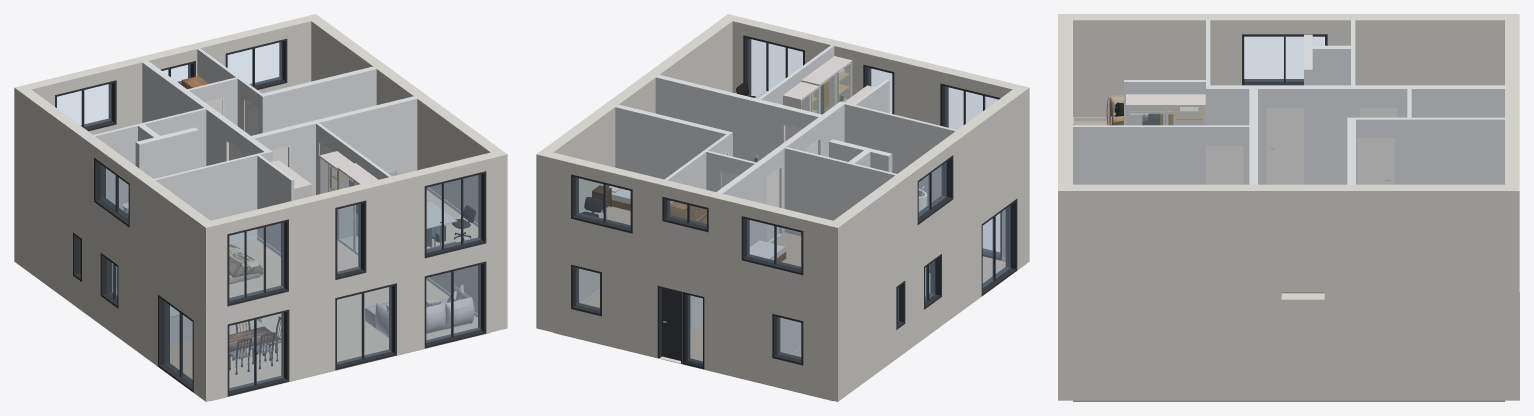
The model's file is haus.glb.
3 renders of one model, left to right at view 1: azimuth 30°, elevation 25°; view 2: azimuth 150°, elevation 25°; view 3: azimuth 270°, elevation 25°, orthographic. The views are drawn at different scales.
Parts seen in each view (by area): view 1: object 25, object 29, object 1, object 3, object 7, object 28, object 27, object 15, object 23, object 48, object 49; view 2: object 25, object 1, object 29, object 3, object 28, object 27, object 7, DOOR_eah1jsn3zr16_leaf, object 8, DOOR_mu0mygiptx2z_leaf, object 56, object 50; view 3: object 25, object 1, object 29, object 3, object 28, DOOR_bk53avd0xnd8_leaf, object 27, DOOR_j4w04qg5vu2w_leaf, DOOR_wu8b1132cbgz_leaf, object 7, object 48.
Boxes of the visible parts, x1,y1,x2,y2 form: object 25: (14, 14, 507, 311); object 29: (93, 48, 417, 252); object 1: (14, 171, 507, 401); object 3: (73, 151, 490, 400); object 7: (79, 158, 480, 390); object 28: (57, 42, 480, 300); object 27: (55, 38, 486, 306); object 15: (365, 284, 474, 337); object 23: (229, 316, 281, 374); object 48: (229, 244, 263, 284); object 49: (426, 201, 456, 249); object 25: (536, 14, 1029, 311); object 1: (536, 171, 1029, 401); object 29: (615, 45, 957, 246); object 3: (553, 56, 1017, 401); object 28: (576, 39, 997, 269); object 27: (571, 35, 1000, 275); object 7: (576, 64, 1010, 363); DOOR_eah1jsn3zr16_leaf: (662, 288, 680, 360); object 8: (690, 295, 801, 354); DOOR_mu0mygiptx2z_leaf: (768, 169, 779, 241); object 56: (670, 201, 706, 223); object 50: (581, 82, 755, 216); object 25: (1058, 14, 1519, 291); object 1: (1058, 285, 1519, 400); object 29: (1073, 20, 1504, 184); object 3: (1073, 94, 1504, 401); object 28: (1245, 37, 1324, 81); DOOR_bk53avd0xnd8_leaf: (1268, 109, 1301, 184); object 27: (1206, 34, 1397, 184); DOOR_j4w04qg5vu2w_leaf: (1359, 140, 1392, 184); DOOR_wu8b1132cbgz_leaf: (1208, 147, 1241, 184); object 7: (1130, 107, 1201, 124); object 48: (1106, 95, 1123, 125).
Size of the model in its own units: 9.83 by 5.62 by 10.83.
Materials: 30 (26 with a texture image).
